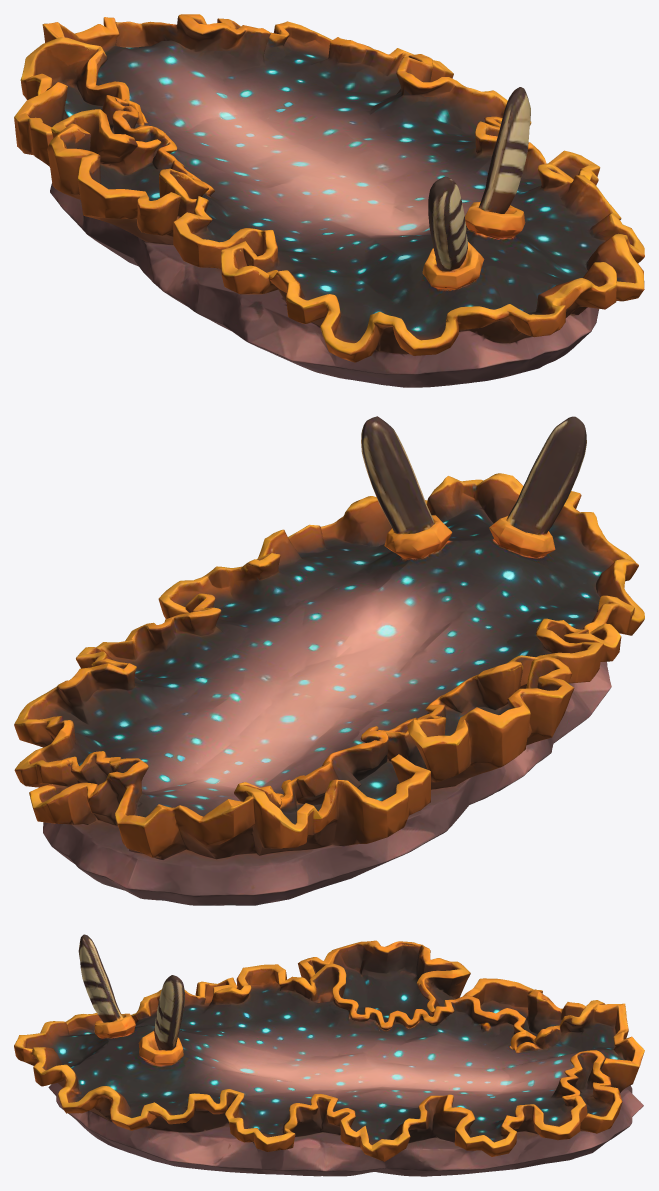
File: bailarina.glb
The picture shows the model from 3 angles, top to bottom: view 1: azimuth 30°, elevation 25°; view 2: azimuth 150°, elevation 25°; view 3: azimuth 270°, elevation 25°; orthographic projection. The views are drawn at different scales.
Parts seen in each view (by area): view 1: tripo_node_156bb262-f104-445d-866d-74279cba9c86; view 2: tripo_node_156bb262-f104-445d-866d-74279cba9c86; view 3: tripo_node_156bb262-f104-445d-866d-74279cba9c86.
Boxes of the visible parts, x1,y1,x2,y2 form: tripo_node_156bb262-f104-445d-866d-74279cba9c86: [14, 14, 644, 387]; tripo_node_156bb262-f104-445d-866d-74279cba9c86: [14, 416, 644, 905]; tripo_node_156bb262-f104-445d-866d-74279cba9c86: [14, 934, 644, 1176].
Bounding box in the file's own units: 0.6166 × 0.308 × 1.
Materials: 1 (1 with a texture image).
